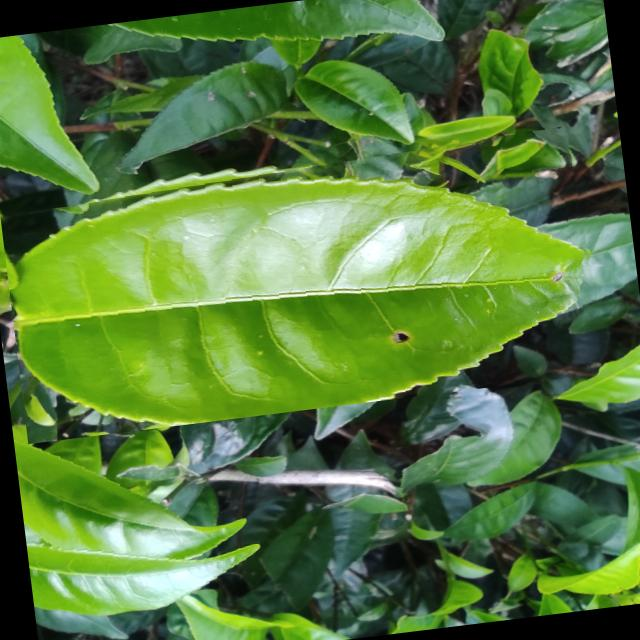Category B(2-4 days): (0, 124, 607, 443)
